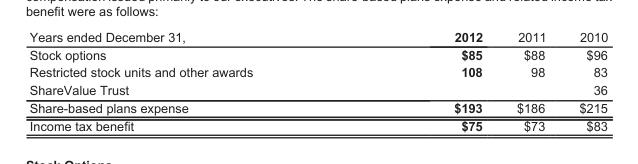table: (28, 29, 607, 132)
table column: (28, 29, 352, 132), (352, 29, 499, 132), (499, 29, 562, 132), (562, 29, 607, 132)
table column header: (28, 29, 607, 45)
table row: (28, 45, 607, 63), (28, 63, 607, 81), (28, 98, 607, 116), (28, 81, 607, 98), (28, 29, 607, 45), (28, 116, 607, 132)
